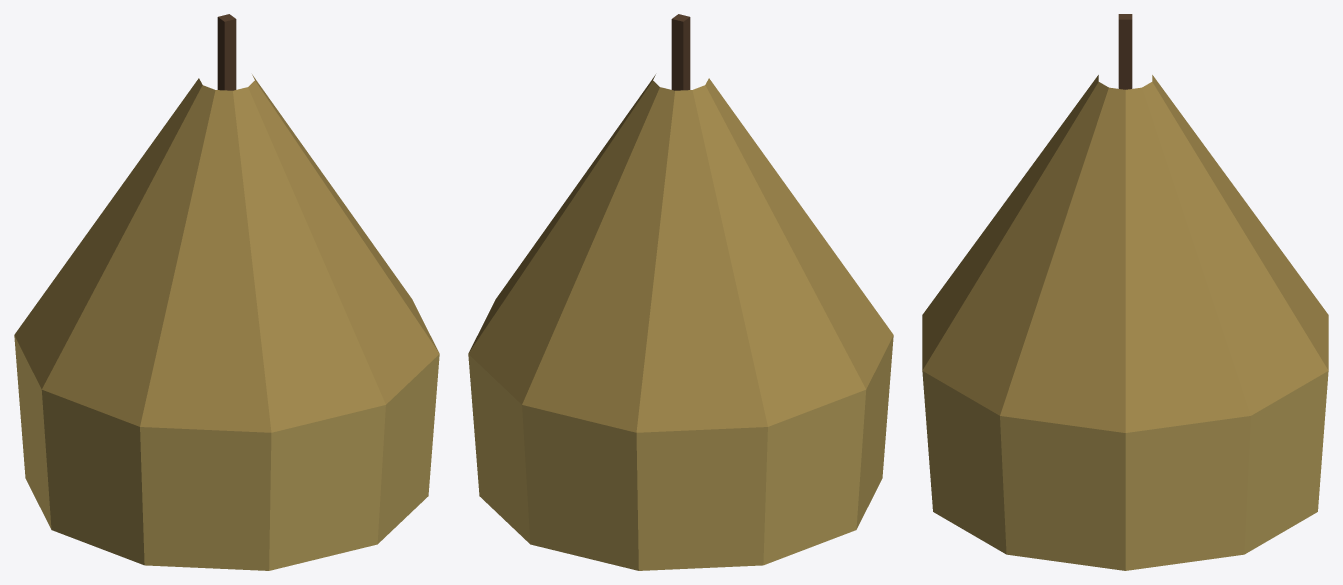
The model's file is haystack.glb.
3 renders of one model, left to right at view 1: azimuth 30°, elevation 25°; view 2: azimuth 150°, elevation 25°; view 3: azimuth 270°, elevation 25°, orthographic.
Parts seen in each view (by area): view 1: haystack; view 2: haystack; view 3: haystack.
Boxes of the visible parts, x1,y1,x2,y2 form: haystack: [14, 14, 439, 570]; haystack: [468, 14, 893, 570]; haystack: [922, 14, 1328, 570].
Bounding box in the file's own units: 3.8 × 4.6 × 3.61.
